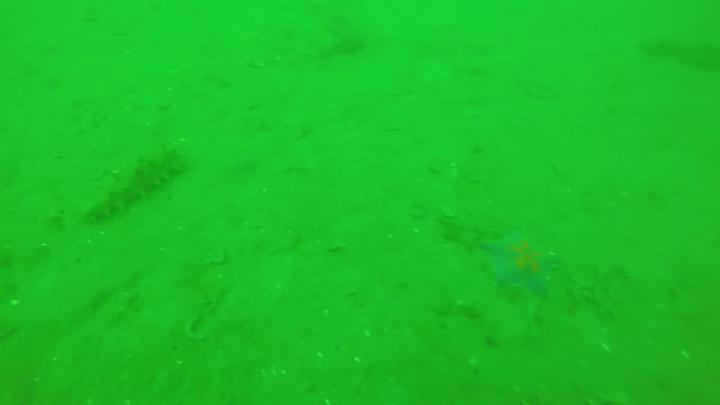holothurian: (86, 143, 190, 222), (641, 31, 720, 72)
starfish: (480, 233, 561, 307)
